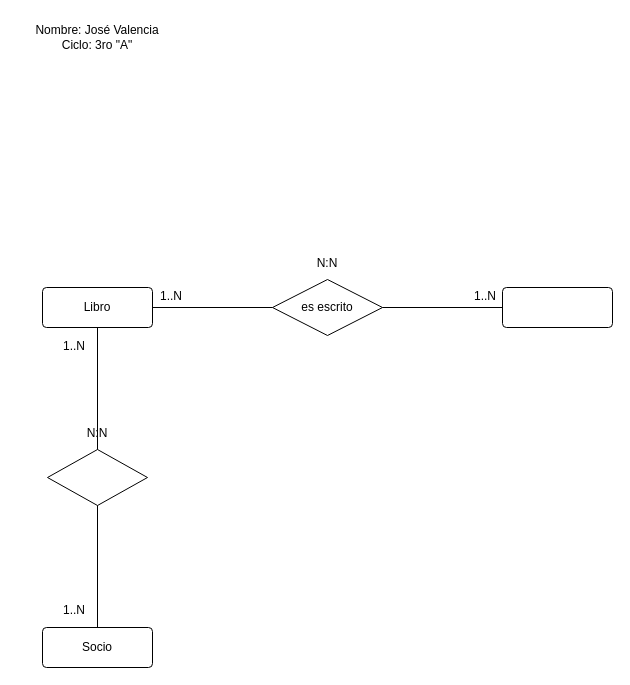
Image size: 630x685. Some labels were removed from this diagram. The shapes that lost their labels are listed below. From the top down, each one's centre as x and y in pixels, then its label:
the point at 557,307: Autor
the point at 97,477: préstamo
